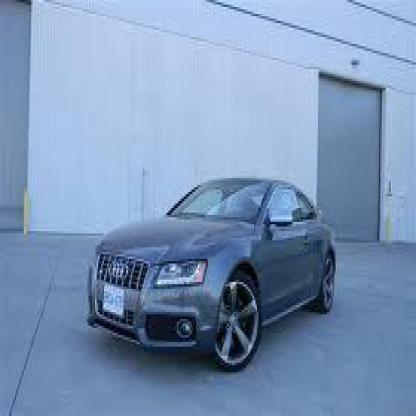Vehicle: (89, 178, 339, 372)
